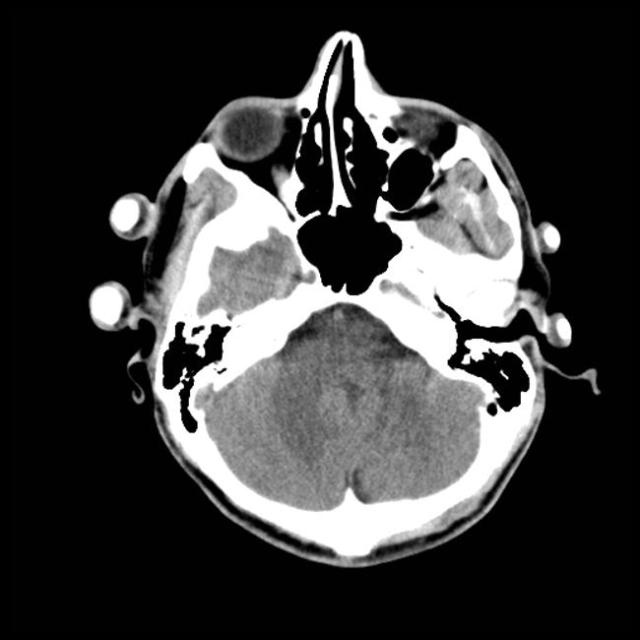lesion: (87, 29, 600, 569)
